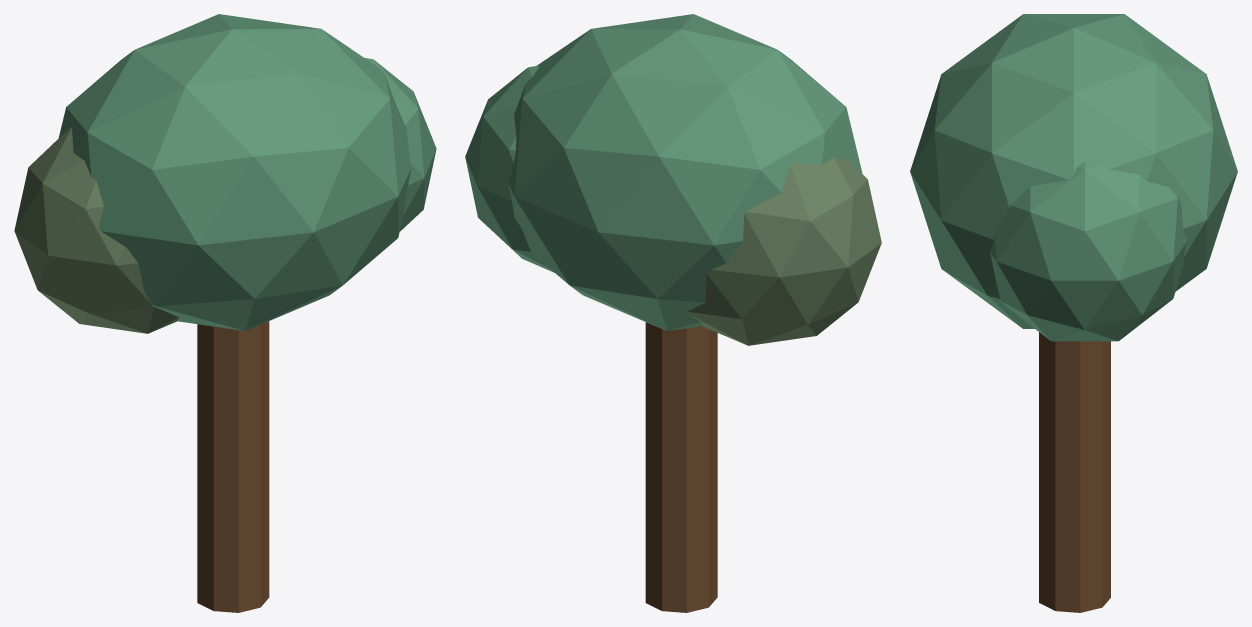
Rendered from oak.glb.
The picture shows the model from 3 angles, left to right: view 1: azimuth 30°, elevation 25°; view 2: azimuth 150°, elevation 25°; view 3: azimuth 270°, elevation 25°; orthographic projection.
Parts seen in each view (by area): view 1: CrownA, Trunk, CrownB, CrownC; view 2: CrownA, CrownB, Trunk, CrownC; view 3: CrownA, CrownC, Trunk.
Boxes of the visible parts, box(x1,y1,x2,y2) form: CrownA: box(58, 14, 411, 330); Trunk: box(197, 321, 269, 612); CrownB: box(14, 127, 178, 333); CrownC: box(365, 58, 436, 231); CrownA: box(508, 14, 862, 330); CrownB: box(687, 157, 881, 345); Trunk: box(645, 322, 717, 612); CrownC: box(465, 66, 554, 272); CrownA: box(910, 14, 1237, 328); CrownC: box(990, 161, 1186, 341); Trunk: box(1039, 332, 1110, 612).
Bounding box in the file's own units: 4.08 × 5.75 × 3.
